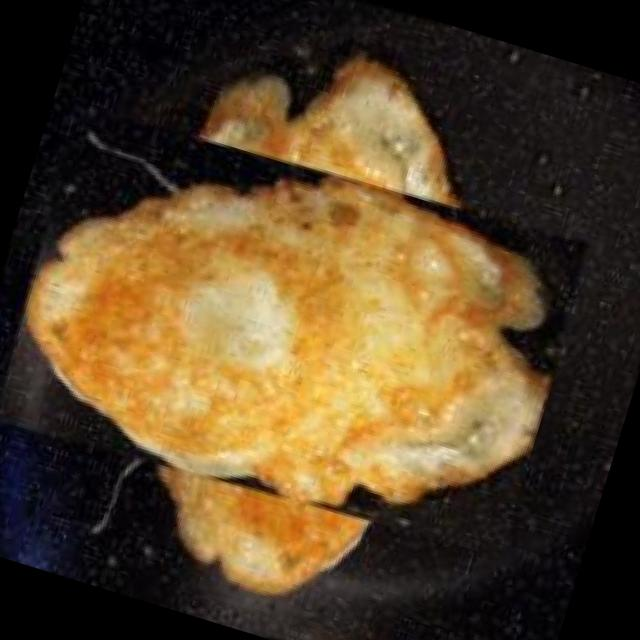fried_eggs: (0, 36, 584, 623)
